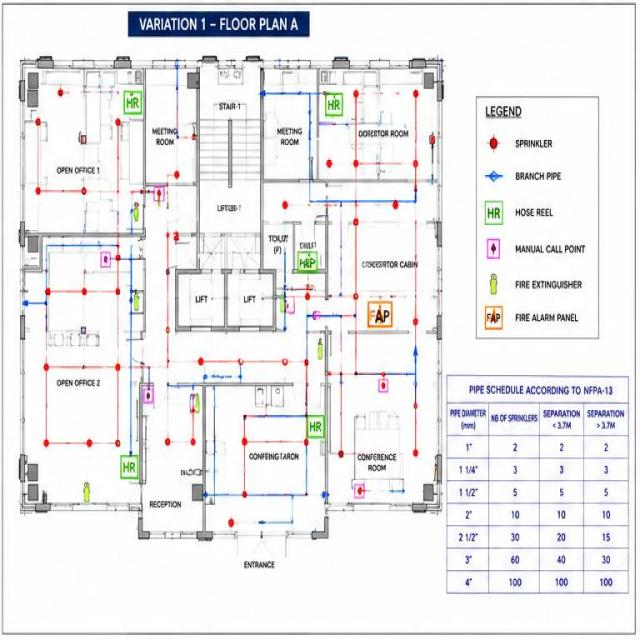branch_pipe: (115, 220, 322, 506), (350, 224, 434, 477), (39, 102, 134, 301), (37, 352, 128, 459), (27, 182, 130, 208), (28, 114, 48, 201)
fire_alarm_panel: (367, 299, 393, 330)
fire_extinguisher: (314, 331, 334, 370), (128, 287, 152, 319), (185, 386, 206, 420), (273, 285, 294, 317), (77, 479, 98, 507)
hose_reel: (305, 412, 329, 440), (122, 88, 145, 116), (321, 94, 347, 118), (121, 451, 139, 480), (297, 249, 319, 272)
manual_call_point: (151, 183, 170, 205), (373, 377, 392, 397), (98, 252, 114, 272), (353, 484, 366, 501)
sprinkler: (55, 82, 69, 104), (335, 447, 349, 467), (280, 197, 294, 216), (34, 113, 46, 131), (325, 157, 336, 173), (227, 517, 236, 529)
